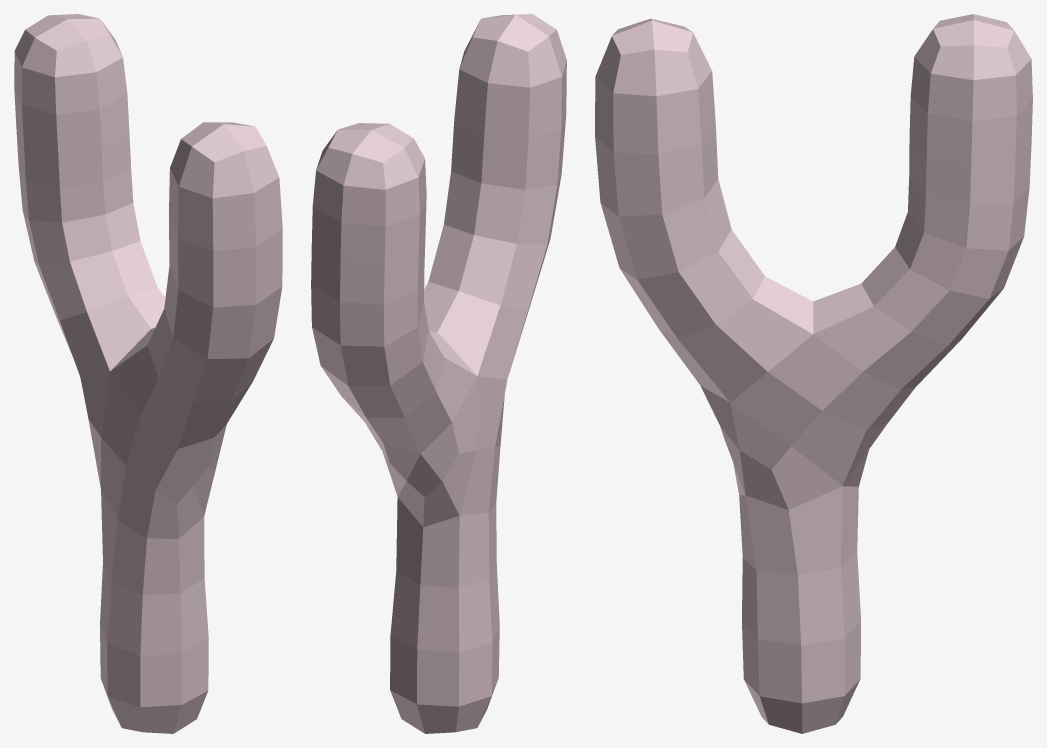
The model's file is slingshot.fbx.
3 views of the same model, side by side, from view 1: azimuth 30°, elevation 25°; view 2: azimuth 150°, elevation 25°; view 3: azimuth 270°, elevation 25° (orthographic). The views are drawn at different scales.
Visible parts, largest first — view 1: Cube; view 2: Cube; view 3: Cube.
Boxes of the visible parts, x1,y1,x2,y2 form: Cube: [14, 14, 282, 733]; Cube: [311, 14, 566, 733]; Cube: [595, 14, 1032, 733].
Bounding box in the file's own units: 22.16 × 129 × 72.08.
